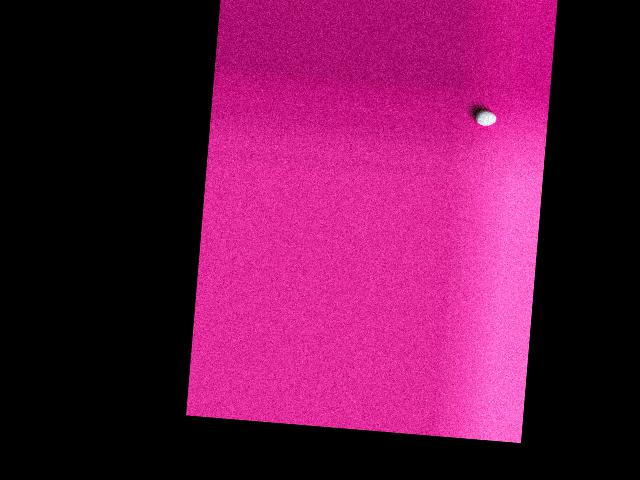egg: (474, 110, 496, 127)
